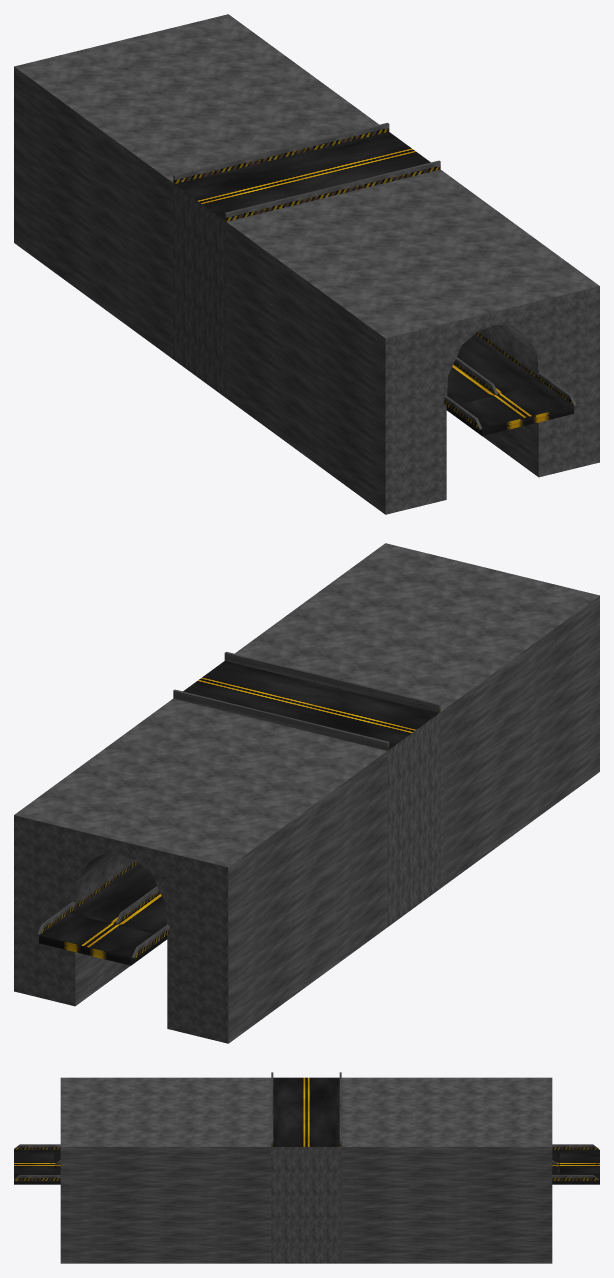
File: HighwaySet.fbx
3 views of the same model, one above another, from view 1: azimuth 30°, elevation 25°; view 2: azimuth 150°, elevation 25°; view 3: azimuth 270°, elevation 25° (orthographic). The views are drawn at different scales.
Visible parts, largest first — view 1: polySurface5, Retainingwall, polySurface7, polySurface10, polySurface9, polySurface6, polySurface11; view 2: polySurface5, Retainingwall, polySurface7, polySurface9 (×2), polySurface6 (×2), polySurface11, polySurface10; view 3: polySurface5, Retainingwall, polySurface7, polySurface3, polySurface8.
Boxes of the visible parts, left/top/right/bottom form: polySurface5: left=14, top=14, right=599, bottom=514; Retainingwall: left=173, top=132, right=430, bottom=397; polySurface7: left=446, top=334, right=573, bottom=436; polySurface10: left=224, top=160, right=438, bottom=221; polySurface9: left=178, top=124, right=389, bottom=180; polySurface6: left=227, top=160, right=440, bottom=212; polySurface11: left=173, top=122, right=388, bottom=183; polySurface5: left=14, top=543, right=599, bottom=1043; Retainingwall: left=183, top=661, right=440, bottom=926; polySurface7: left=39, top=863, right=167, bottom=965; polySurface9 (×2): left=173, top=689, right=387, bottom=750; polySurface6 (×2): left=225, top=652, right=439, bottom=712; polySurface11: left=173, top=689, right=389, bottom=750; polySurface10: left=224, top=651, right=440, bottom=712; polySurface5: left=60, top=1077, right=552, bottom=1263; Retainingwall: left=271, top=1077, right=341, bottom=1263; polySurface7: left=14, top=1149, right=599, bottom=1184; polySurface3: left=552, top=1175, right=598, bottom=1180; polySurface8: left=14, top=1175, right=60, bottom=1180.
Size of the model in its own units: 14 by 11.5 by 50.08.
